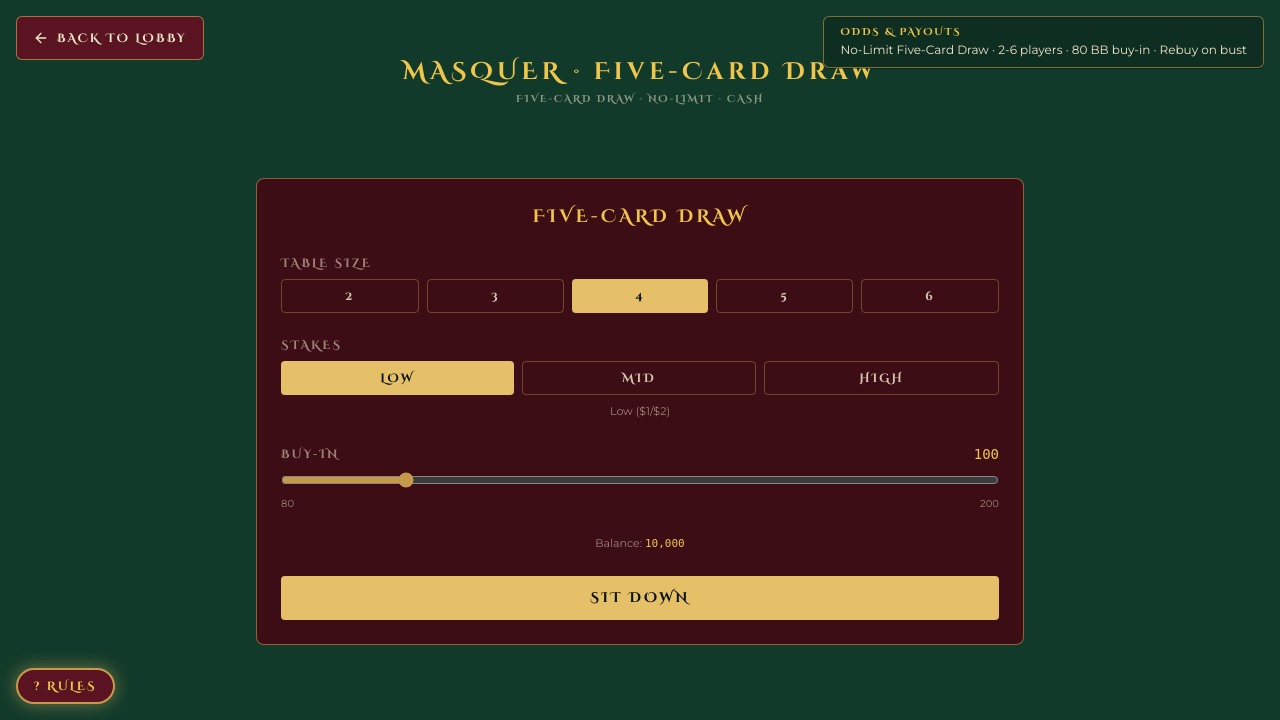
FiveCardDrawPage — gameplay › FOLD completes the hand and LEAVE TABLE becomes enabled
Click the button "2" at (350,296), box [281,279,419,313]
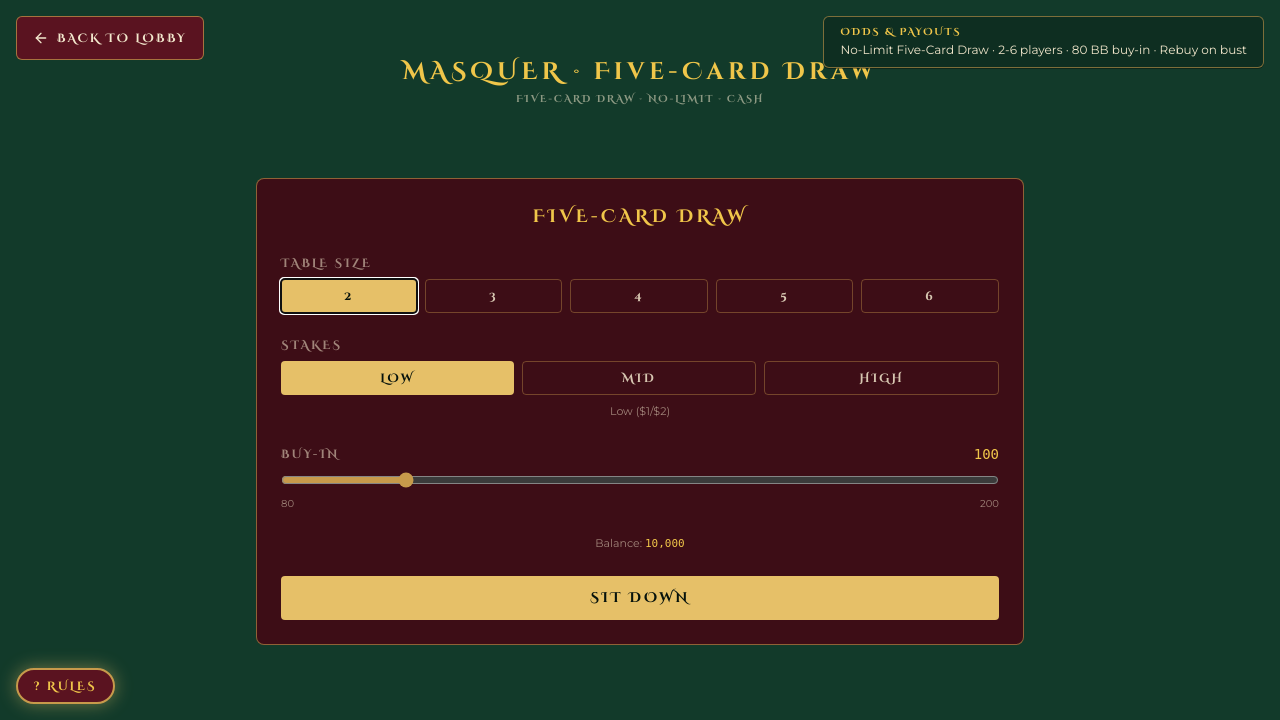
Click the button "SIT DOWN" at (640,598), box [281,576,999,620]
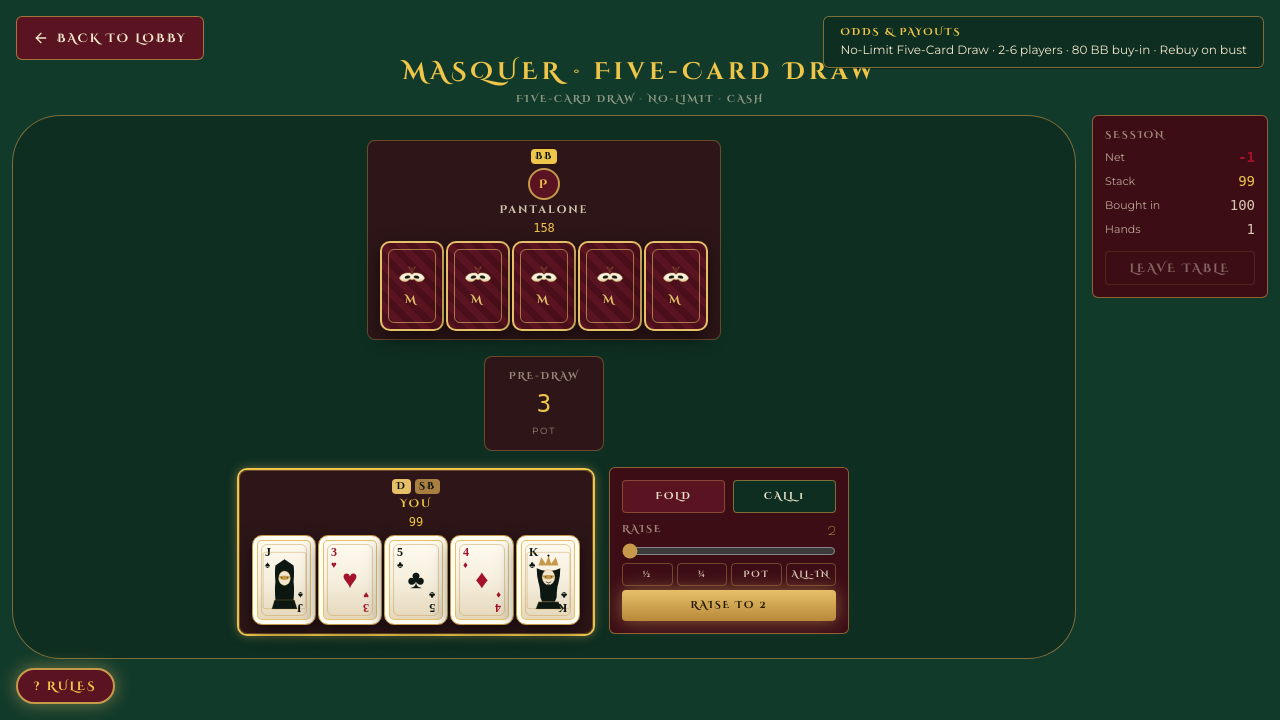
Expected: the button "LEAVE TABLE" is shown, [1105,251,1255,285]
Expected: the button "FOLD" is shown
Expected: the button "FOLD" is enabled
Click the button "FOLD" at (674,496), box [622,480,725,512]
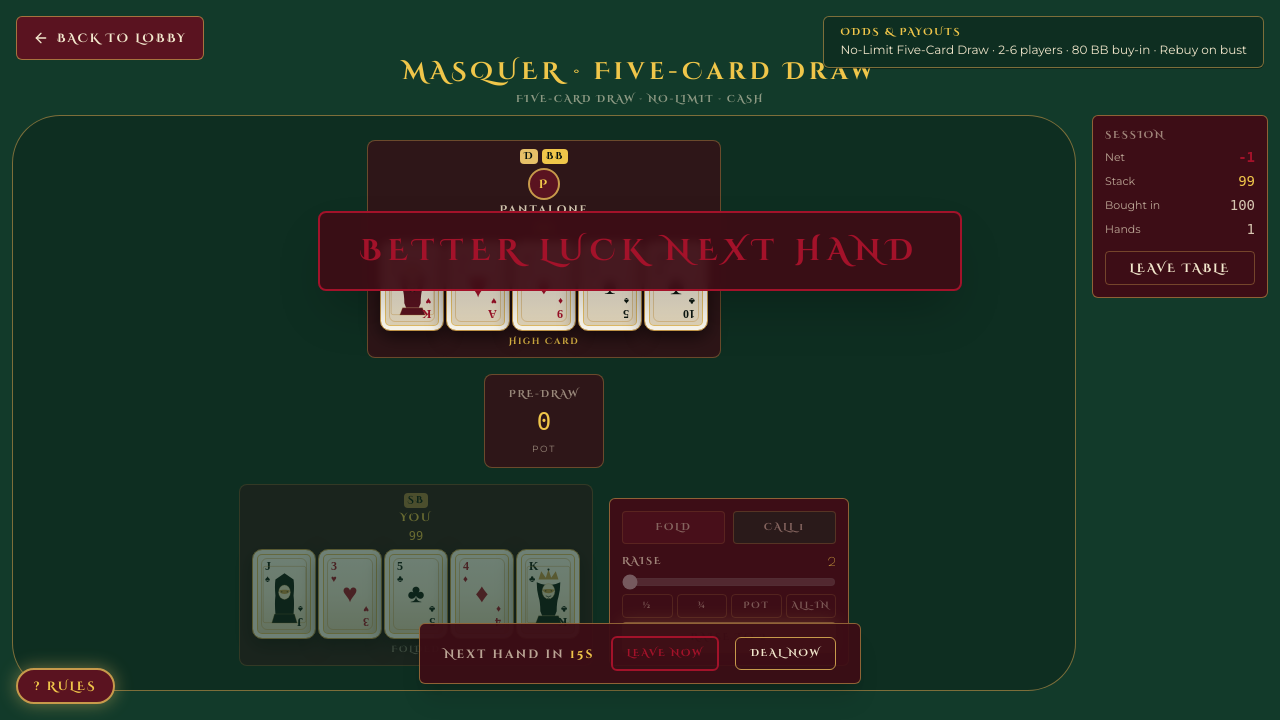
Expected: the button "LEAVE TABLE" is enabled, [1105,251,1255,285]
